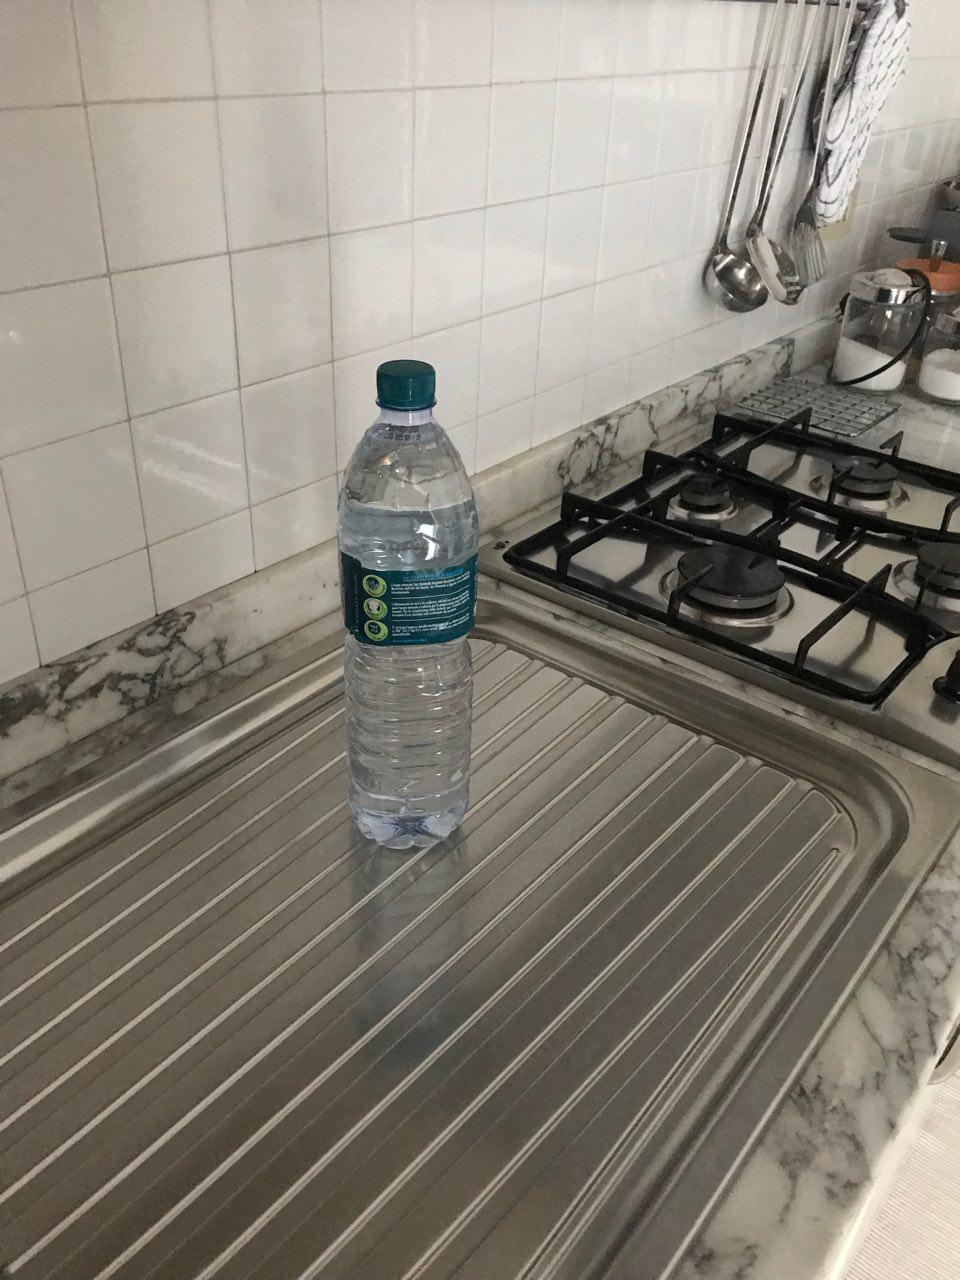san_bernardo: (336, 359, 480, 851)
